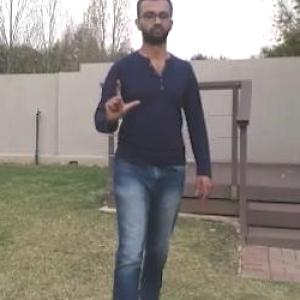land_hand: (100, 72, 142, 126)
